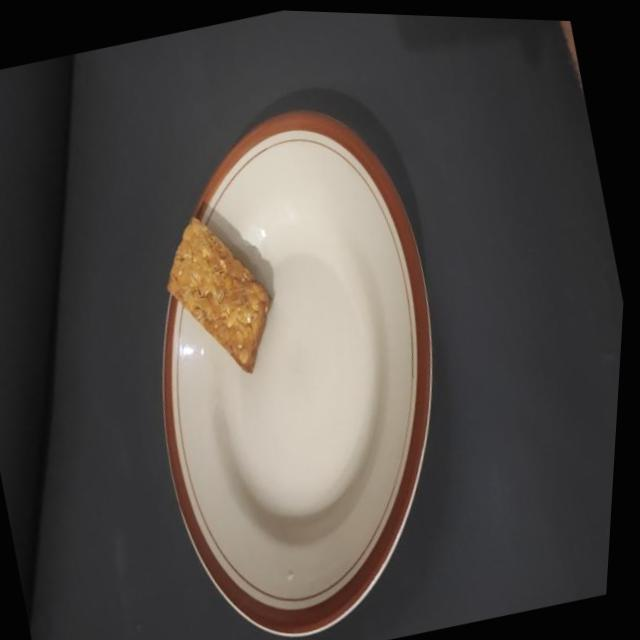tempe_goreng: (168, 217, 272, 372)
